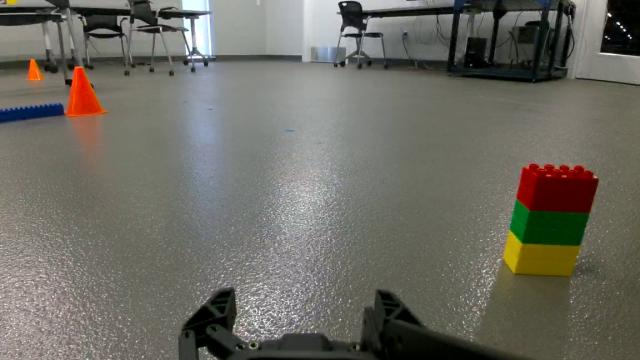lego: (482, 125, 618, 303)
